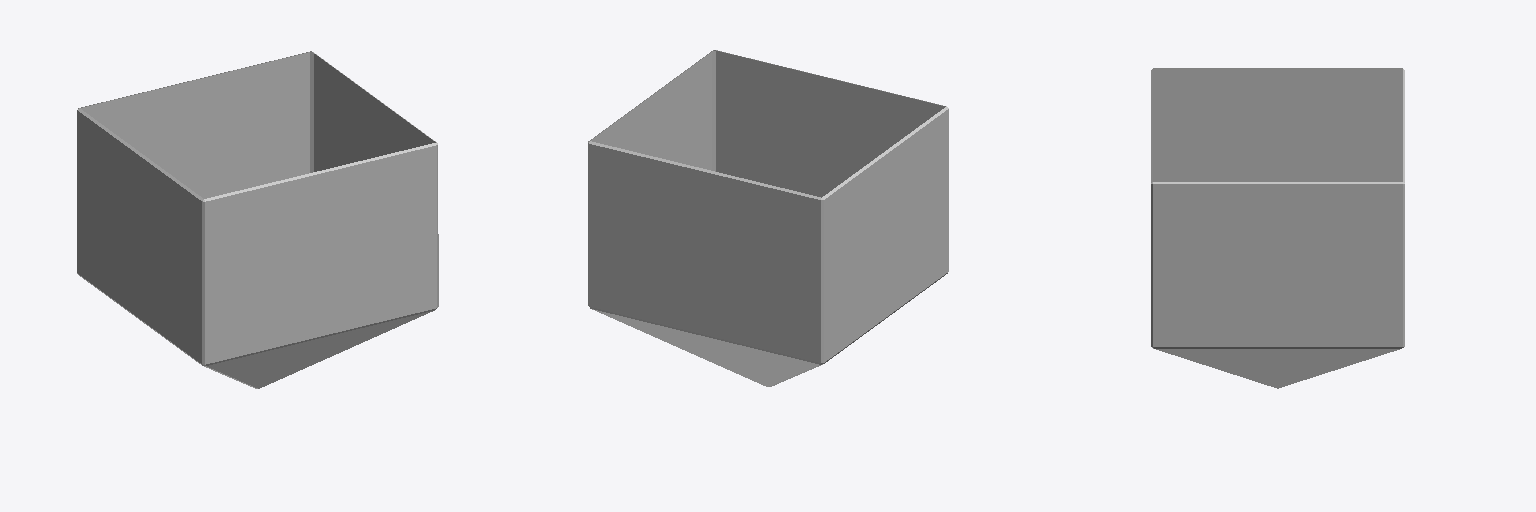
File: lhc_pointer.obj
The picture shows the model from 3 angles: view 1: azimuth 30°, elevation 25°; view 2: azimuth 150°, elevation 25°; view 3: azimuth 270°, elevation 25°; orthographic projection.
Size of the model in its own units: 2.43 by 2.54 by 2.28.